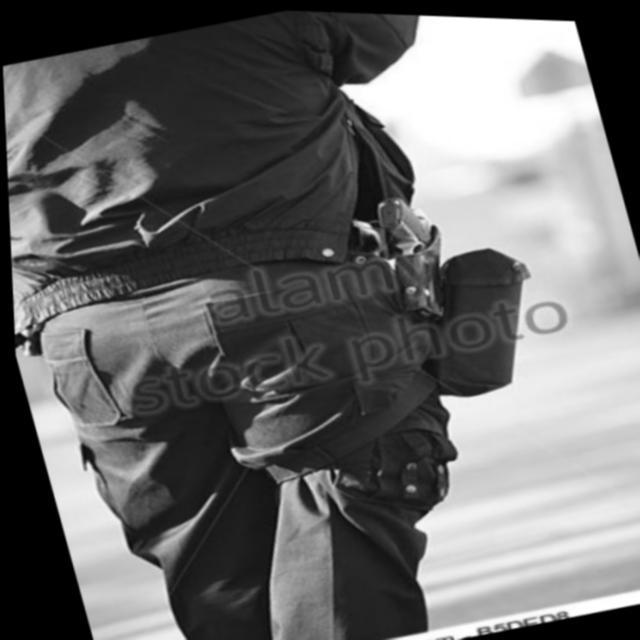weapon: (361, 182, 460, 325)
